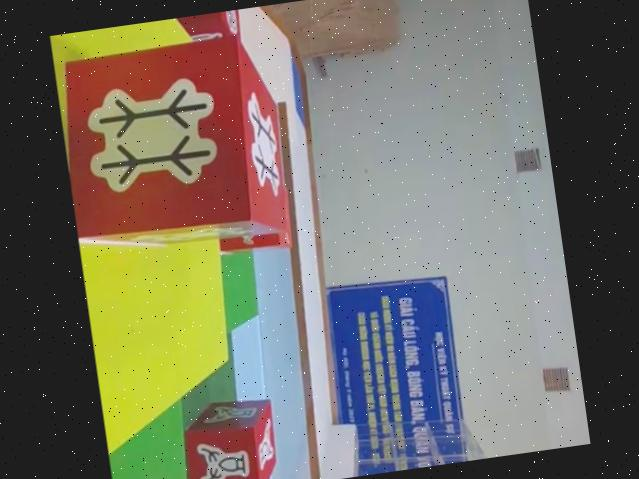R2 Fake: (152, 9, 246, 47)
R2 Real: (53, 27, 300, 261), (172, 390, 287, 479)
